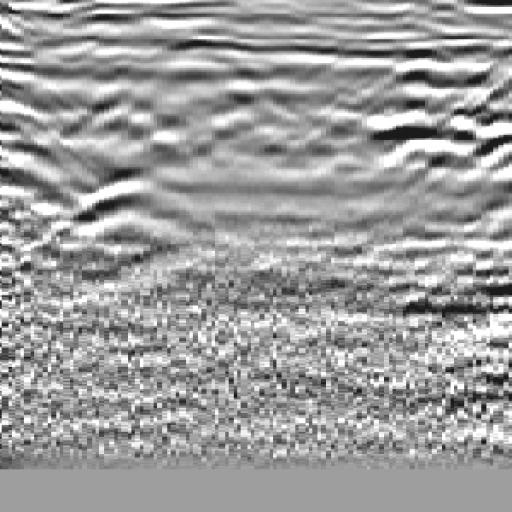metalic: (25, 33, 199, 296)
non-metallic: (147, 34, 316, 251)
nonmetalic: (397, 37, 512, 287)
